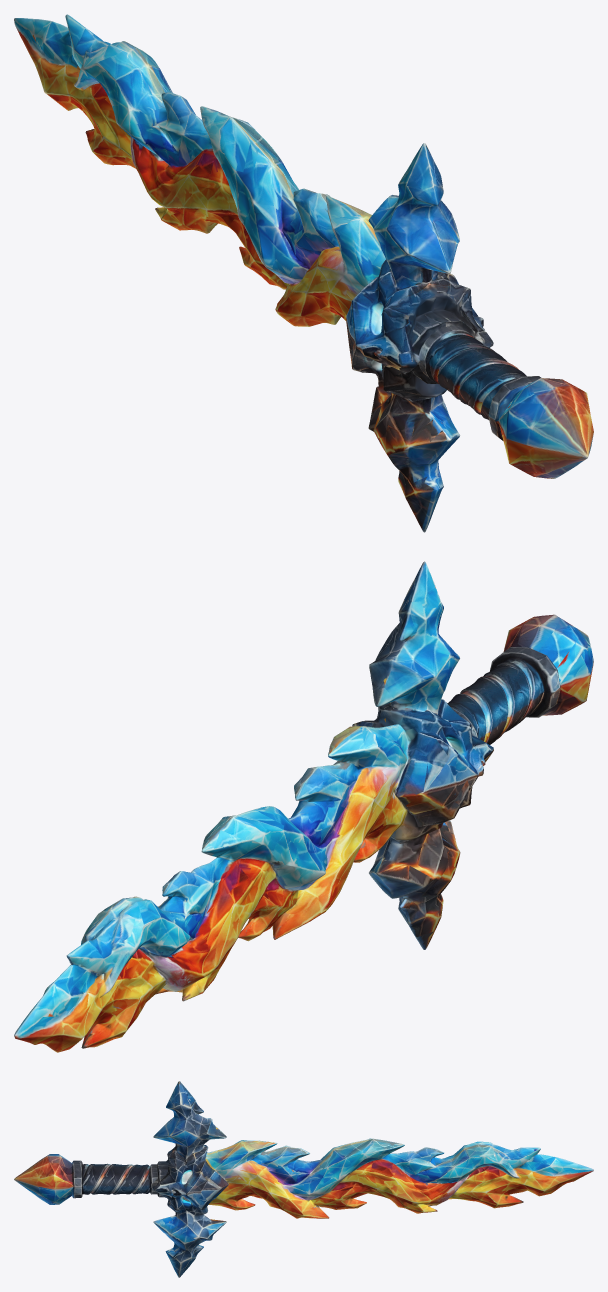
Rendered from Sword_Fusion.fbx.
The picture shows the model from 3 angles, top to bottom: view 1: azimuth 30°, elevation 25°; view 2: azimuth 150°, elevation 25°; view 3: azimuth 270°, elevation 25°; orthographic projection. The views are drawn at different scales.
Visible parts, largest first — view 1: Sword_Fusion; view 2: Sword_Fusion; view 3: Sword_Fusion.
Boxes of the visible parts, x1=… form: Sword_Fusion: x1=14, y1=14, x2=593, y2=532; Sword_Fusion: x1=14, y1=561, x2=593, y2=1052; Sword_Fusion: x1=14, y1=1081, x2=593, y2=1277.
Bounding box in the file's own units: 63.94 × 195 × 520.
Materials: 1 (1 with a texture image).
